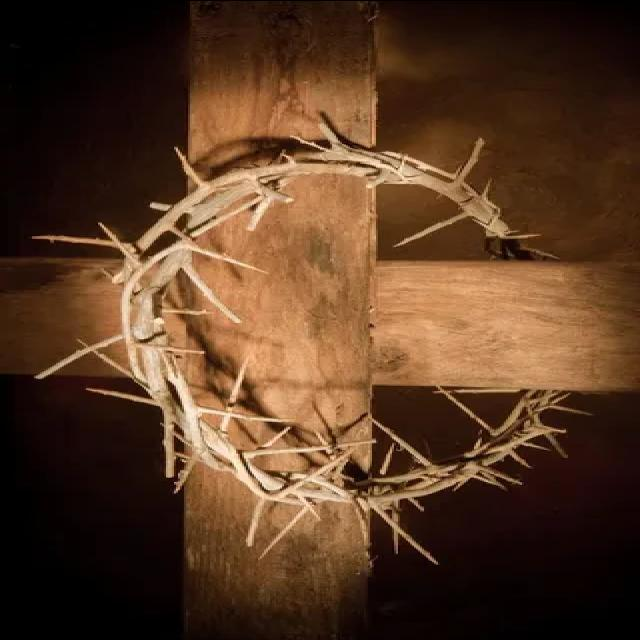crown: (90, 128, 594, 518)
